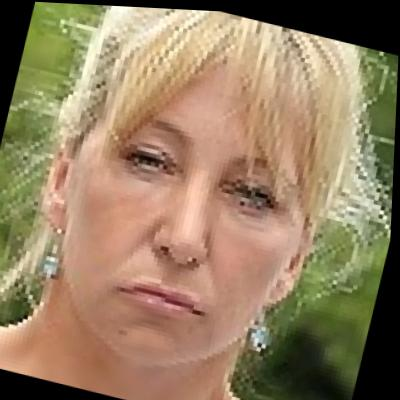sad: (42, 35, 321, 377)
